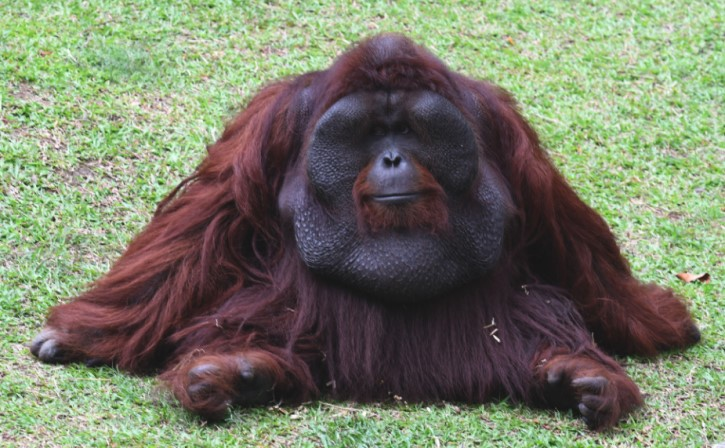Orangutan: (43, 36, 704, 433)
